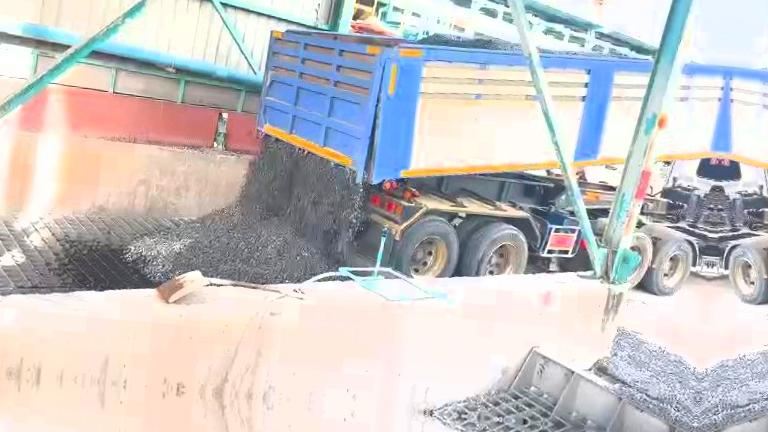gravel: (127, 138, 363, 282), (606, 329, 700, 432), (414, 33, 522, 53)
